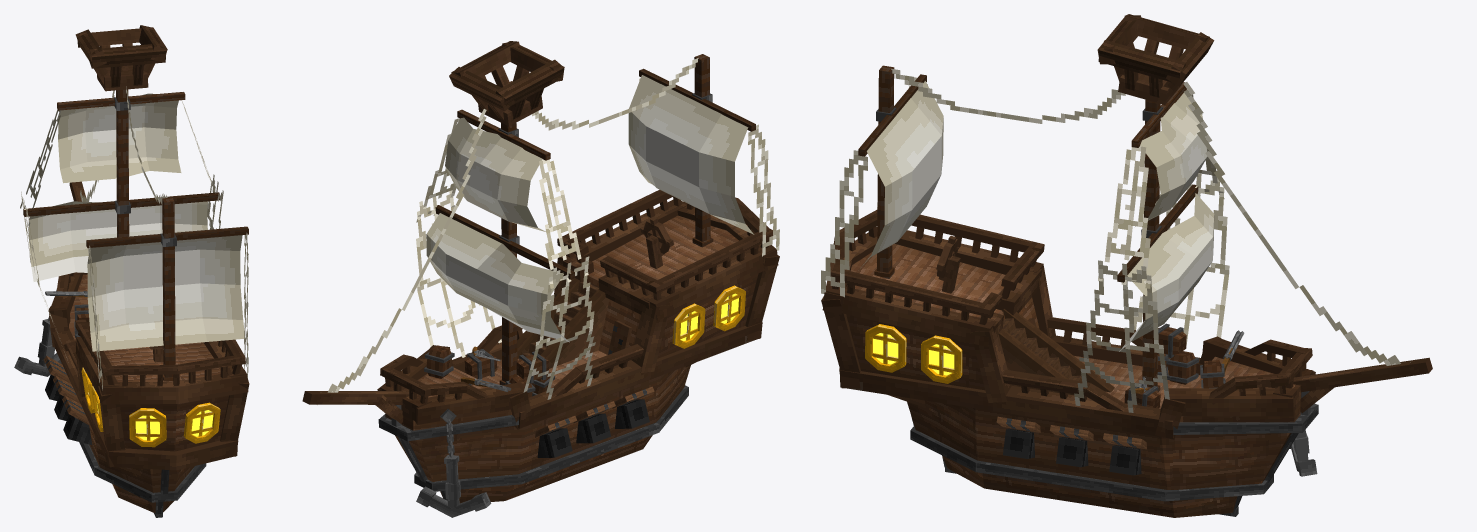
Rendered from Ship.glb.
3 views of the same model, side by side, from view 1: azimuth 30°, elevation 25°; view 2: azimuth 150°, elevation 25°; view 3: azimuth 270°, elevation 25° (orthographic). The views are drawn at different scales.
Visible parts, largest first — view 1: cuboid_120, plane_293, plane_294, plane_292, plane_288, plane_291, plane_290, plane_287, plane_286, plane_284; view 2: cuboid_120, plane_293, plane_292, plane_294, plane_286, plane_287, plane_288, plane_285, plane_290, plane_284, plane_289; view 3: cuboid_120, plane_293, plane_292, plane_294, plane_287, plane_289, plane_285, plane_291, plane_286, plane_284.
Part boxes in pixels (bbox=[...]): cuboid_120: bbox=[14, 25, 249, 517]; plane_293: bbox=[87, 235, 245, 351]; plane_294: bbox=[58, 93, 181, 183]; plane_292: bbox=[28, 201, 208, 281]; plane_288: bbox=[20, 109, 61, 226]; plane_291: bbox=[244, 232, 248, 378]; plane_290: bbox=[88, 245, 102, 390]; plane_287: bbox=[207, 174, 223, 229]; plane_286: bbox=[21, 191, 66, 357]; plane_284: bbox=[126, 86, 167, 205]; cuboid_120: bbox=[302, 41, 779, 517]; plane_293: bbox=[628, 75, 754, 234]; plane_292: bbox=[426, 213, 569, 342]; plane_294: bbox=[445, 117, 545, 231]; plane_286: bbox=[523, 256, 595, 399]; plane_287: bbox=[416, 190, 501, 357]; plane_288: bbox=[539, 159, 588, 288]; plane_285: bbox=[317, 109, 486, 405]; plane_290: bbox=[748, 124, 779, 256]; plane_284: bbox=[532, 58, 698, 130]; plane_289: bbox=[416, 118, 459, 222]; cuboid_120: bbox=[821, 14, 1432, 517]; plane_293: bbox=[858, 81, 943, 270]; plane_292: bbox=[1119, 193, 1214, 351]; plane_294: bbox=[1135, 93, 1207, 226]; plane_287: bbox=[1074, 260, 1169, 412]; plane_289: bbox=[1098, 146, 1150, 288]; plane_285: bbox=[1183, 82, 1415, 375]; plane_291: bbox=[821, 150, 867, 297]; plane_286: bbox=[1133, 173, 1229, 345]; plane_284: bbox=[891, 68, 1125, 123].
Size of the model in its own units: 1.49 by 2.37 by 2.96.
5 materials, 5 textured.
